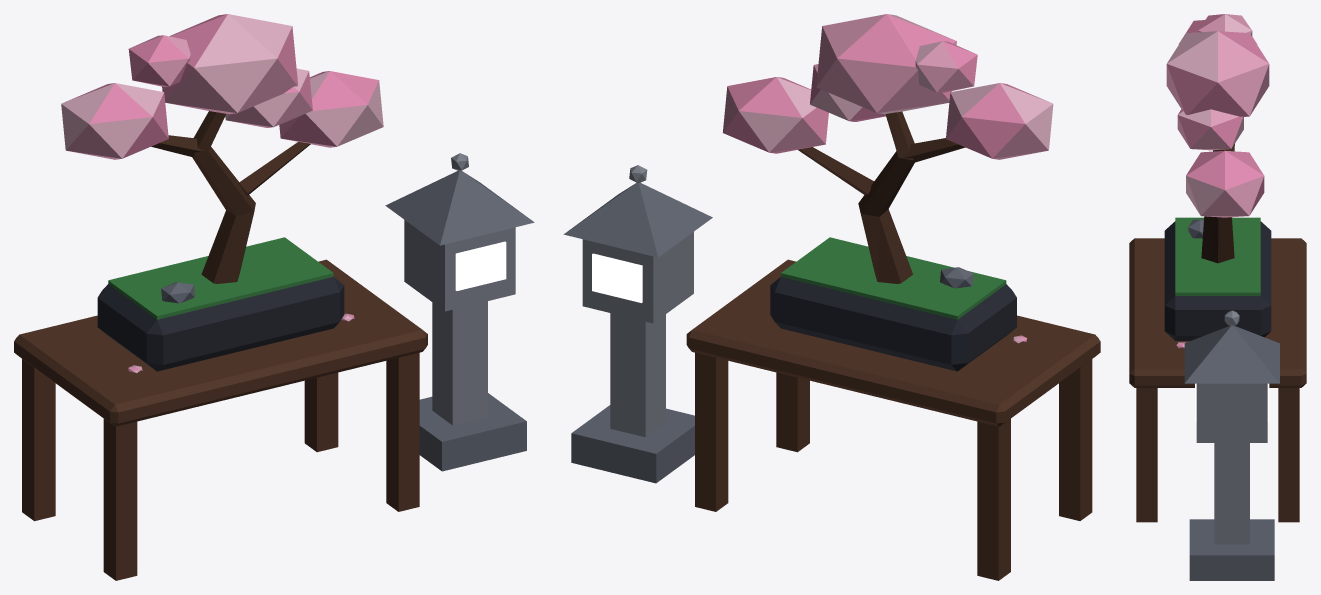
File: kit-tokyo-decor-2.glb
3 renders of one model, left to right at view 1: azimuth 30°, elevation 25°; view 2: azimuth 150°, elevation 25°; view 3: azimuth 270°, elevation 25°, orthographic. The views are drawn at different scales.
Visible parts, largest first — view 1: kit-tokyo-decor-2; view 2: kit-tokyo-decor-2; view 3: kit-tokyo-decor-2.
Part boxes in pixels (box(x1,y1,x2,y2)): kit-tokyo-decor-2: box(14, 14, 534, 580); kit-tokyo-decor-2: box(563, 14, 1100, 580); kit-tokyo-decor-2: box(1129, 14, 1306, 580).
Size of the model in its own units: 1.28 by 1.34 by 0.5.
